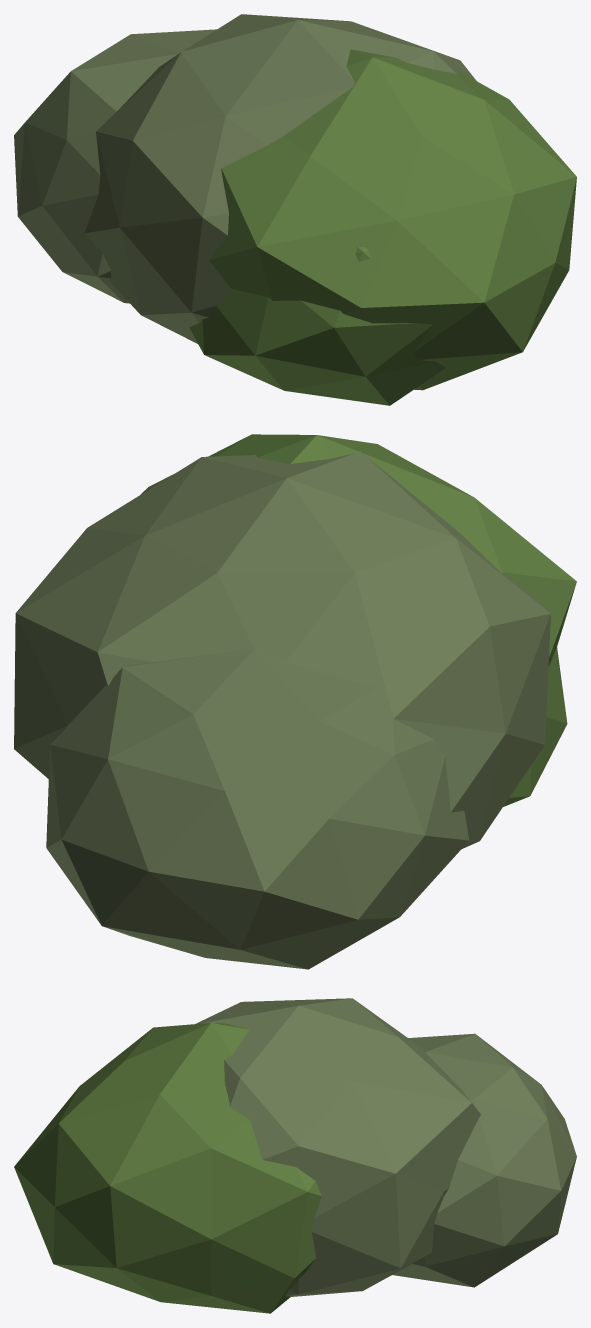
File: cali-maki.glb
3 renders of one model, top to bottom at view 1: azimuth 30°, elevation 25°; view 2: azimuth 150°, elevation 25°; view 3: azimuth 270°, elevation 25°, orthographic. The views are drawn at different scales.
Parts seen in each view (by area): view 1: yaprak2, zeytin3; view 2: zeytin3, yaprak2; view 3: zeytin3, yaprak2.
Part boxes in pixels (left/top/right/bottom): yaprak2: left=189, top=49, right=576, bottom=405; zeytin3: left=14, top=14, right=476, bottom=343; zeytin3: left=14, top=451, right=550, bottom=969; yaprak2: left=140, top=434, right=576, bottom=806; zeytin3: left=192, top=998, right=576, bottom=1296; yaprak2: left=14, top=1023, right=321, bottom=1313.
Size of the model in its own units: 1.01 by 0.8164 by 1.47.
